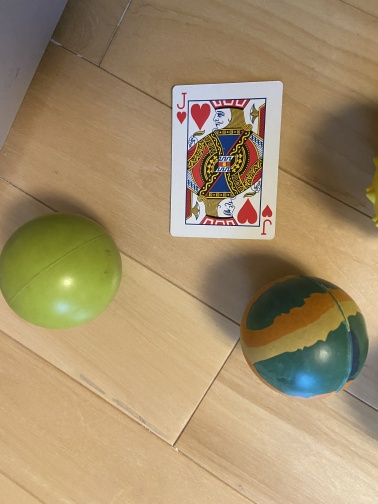jack: (169, 78, 284, 241)
